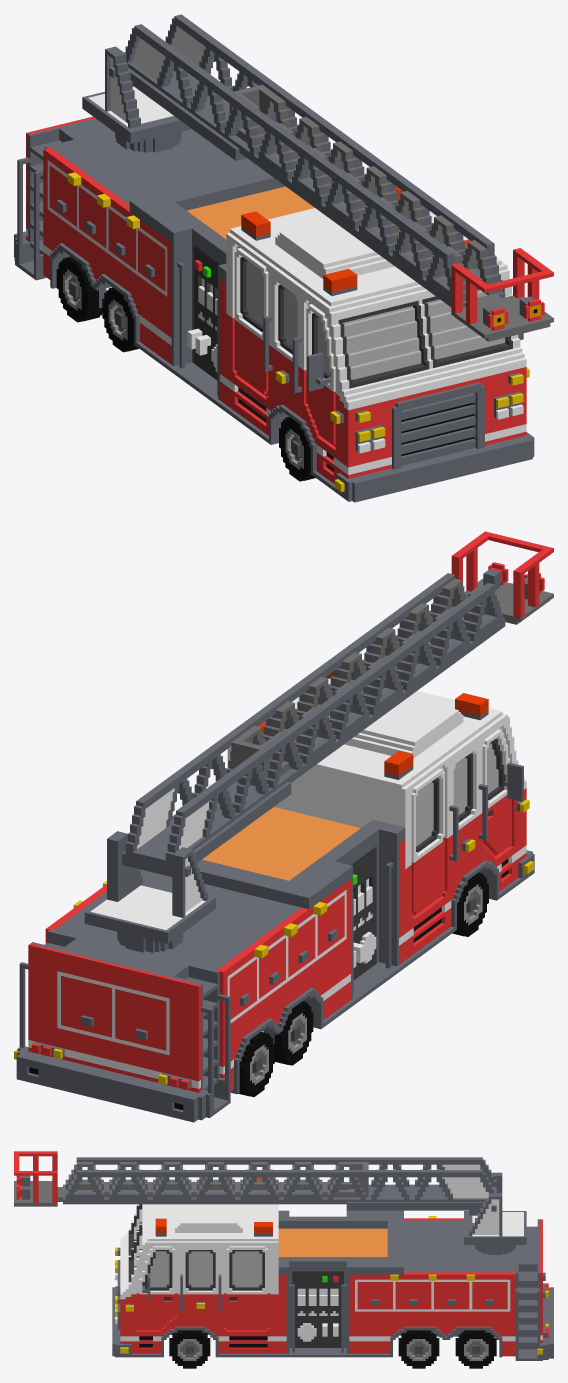
File: Fire Truck.obj
3 renders of one model, top to bottom at view 1: azimuth 30°, elevation 25°; view 2: azimuth 150°, elevation 25°; view 3: azimuth 270°, elevation 25°, orthographic. The views are drawn at different scales.
Size of the model in its own units: 5.9 by 7.2 by 19.8.
Materials: 1 (1 with a texture image).
